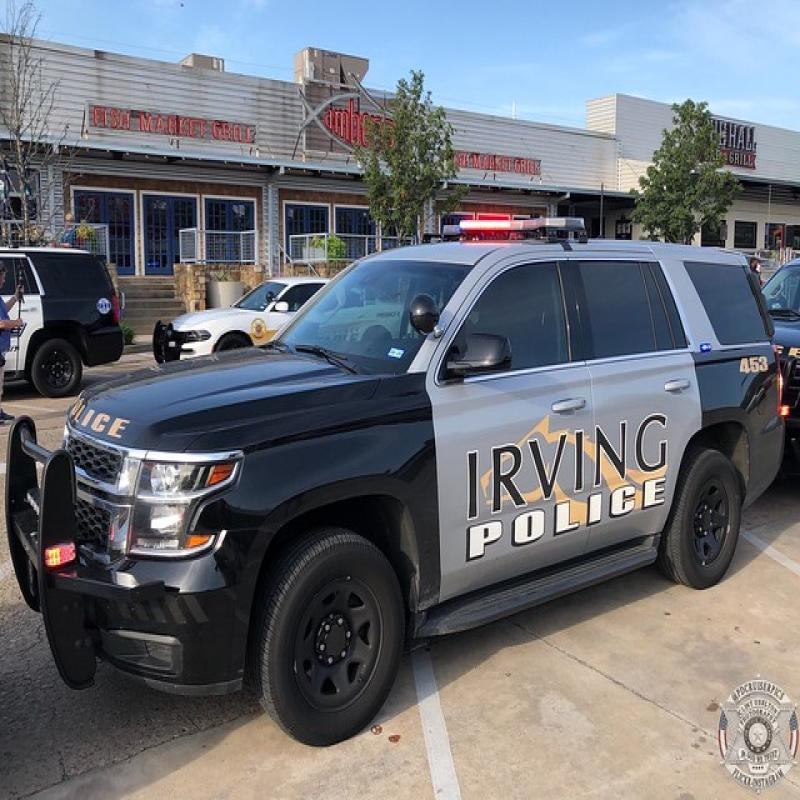AmbulanceSiren: (440, 199, 595, 270)
